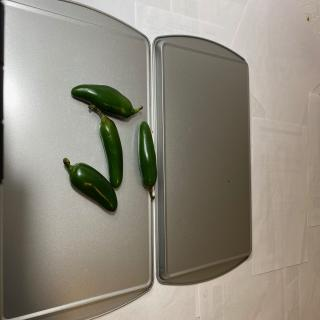Chilli: (70, 83, 142, 119)
Tomato: (88, 104, 124, 189), (63, 157, 117, 212), (138, 120, 157, 200)
